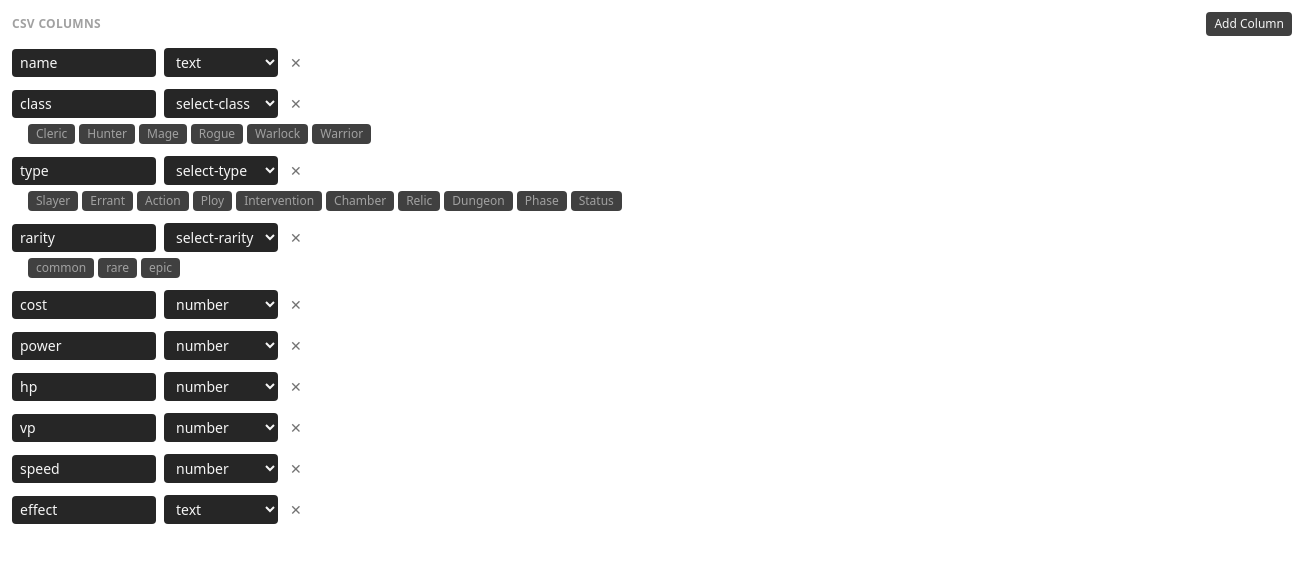
Scenario: CsvColumnEditor › changing type to "select-class" shows read-only class names and hides choices editor
The width and height of the screenshot is (1304, 567).
Select "select-class" in the 1st dropdown named "column type". click: (221, 62)
box: [164,48,278,77]
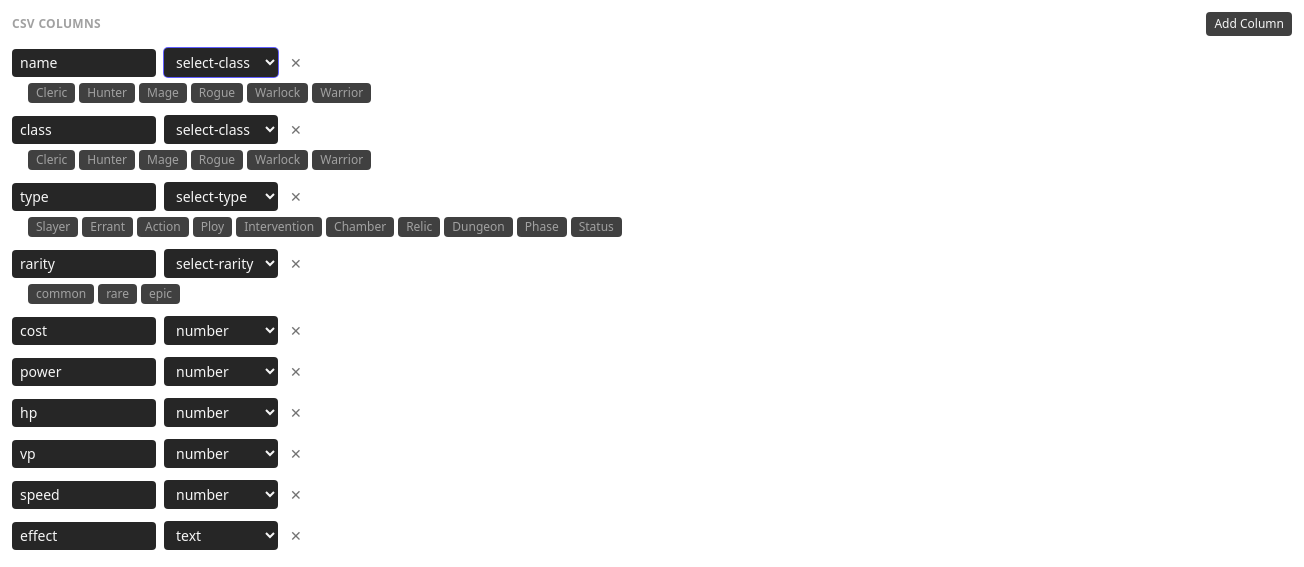
Expected: the 1st text "Cleric" is shown, [28,83,75,103]
